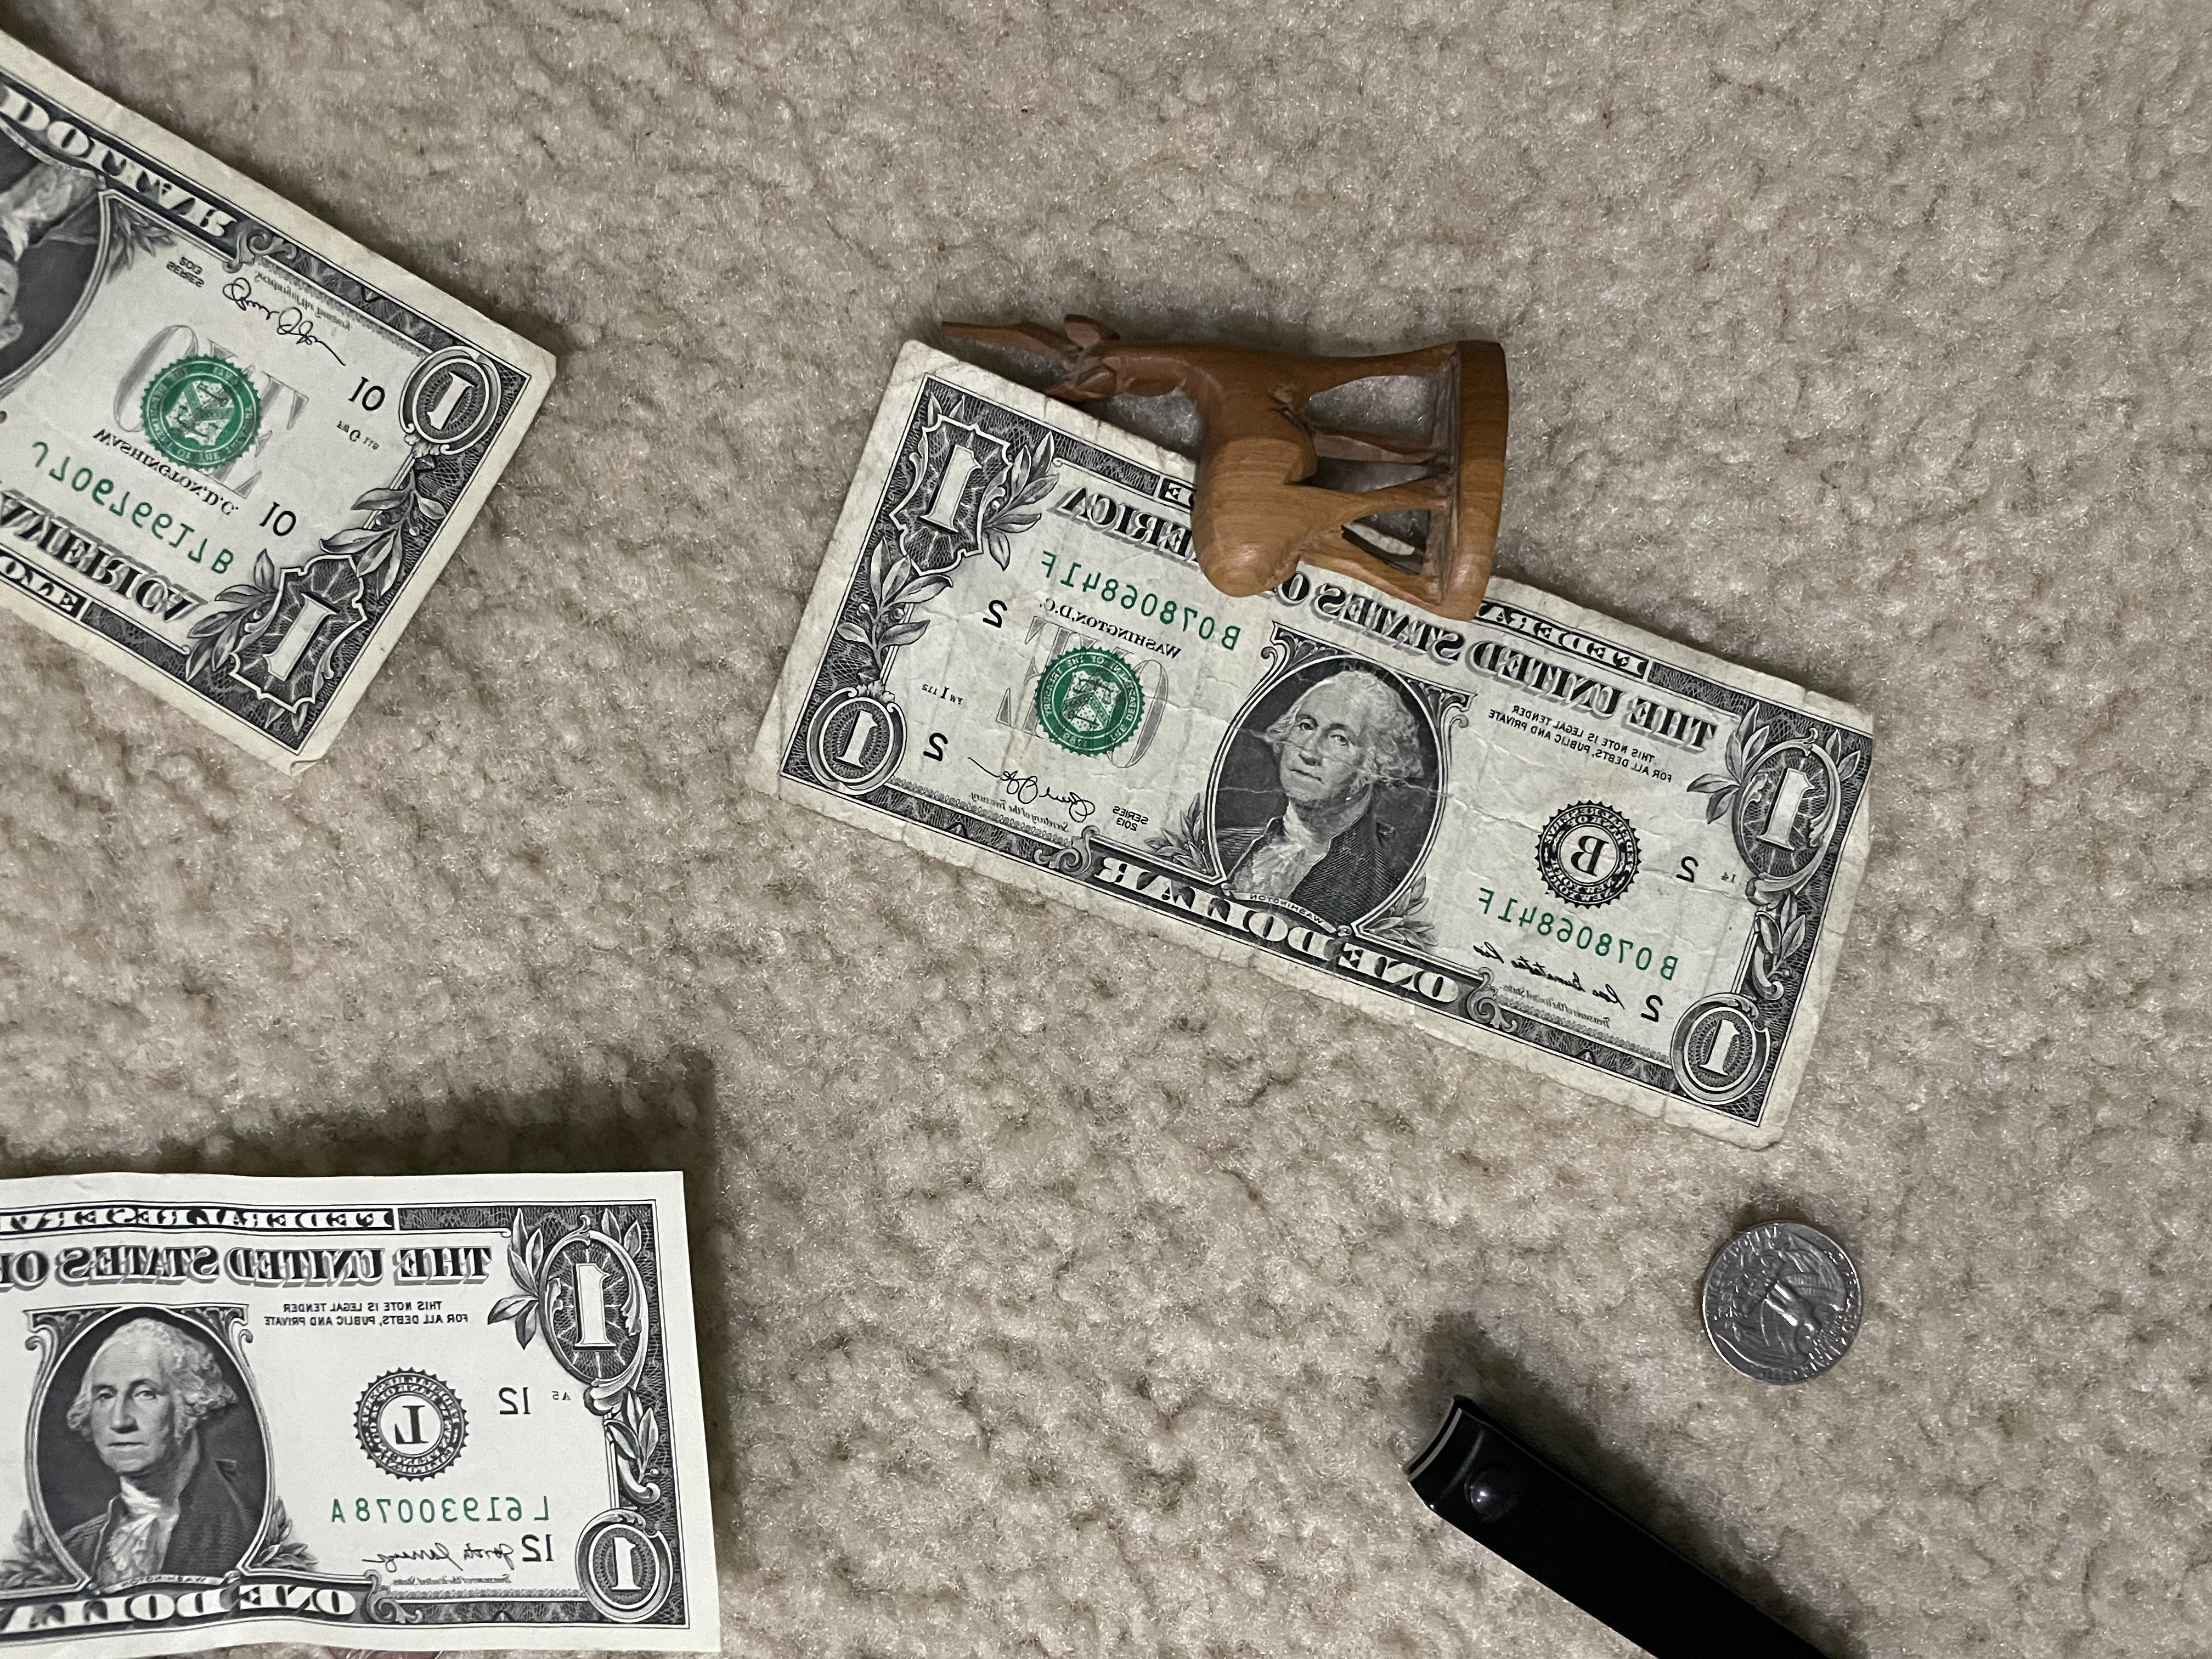OneBill: (735, 329, 1886, 1134), (7, 84, 568, 802), (5, 1145, 730, 1657)
Quarter: (1693, 1204, 1879, 1398)
